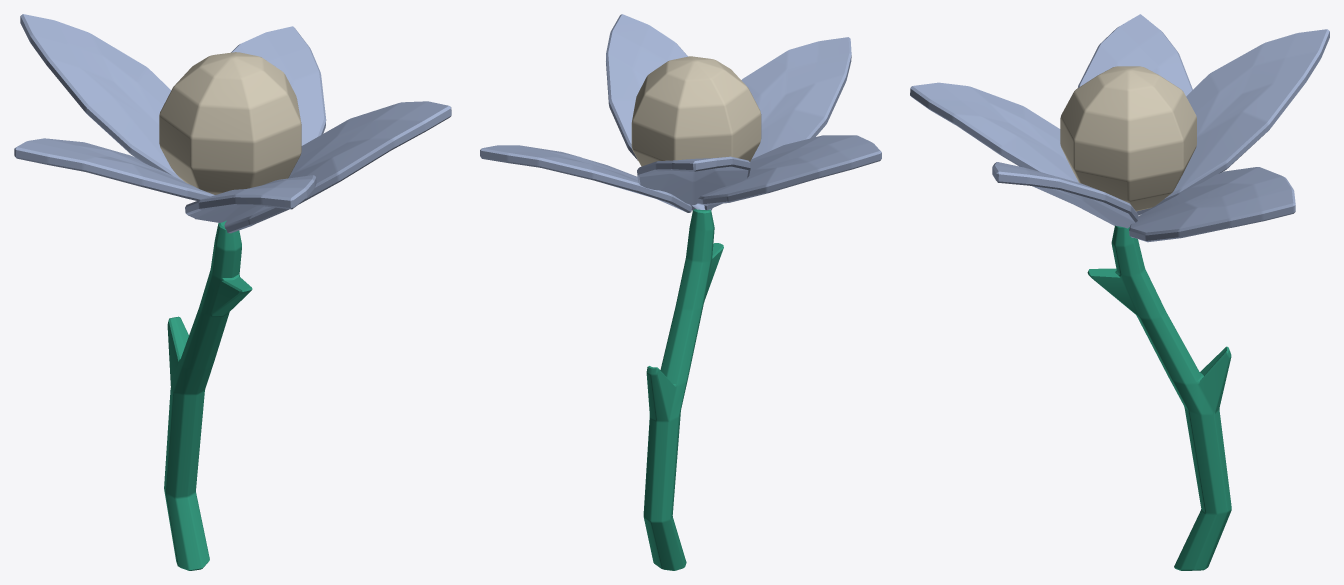
Rendered from Moon_Flower.fbx.
The picture shows the model from 3 angles, left to right: view 1: azimuth 30°, elevation 25°; view 2: azimuth 150°, elevation 25°; view 3: azimuth 270°, elevation 25°; orthographic projection. The views are drawn at different scales.
Parts seen in each view (by area): view 1: pDisc6, pSphere5, pCylinder1; view 2: pDisc6, pSphere5, pCylinder1; view 3: pDisc6, pSphere5, pCylinder1.
Boxes of the visible parts, x1=… form: pDisc6: x1=14, y1=14, x2=451, y2=233; pSphere5: x1=159, y1=52, x2=301, y2=194; pCylinder1: x1=164, y1=220, x2=252, y2=570; pDisc6: x1=480, y1=14, x2=881, y2=212; pSphere5: x1=631, y1=56, x2=761, y2=166; pCylinder1: x1=643, y1=209, x2=723, y2=570; pDisc6: x1=910, y1=14, x2=1329, y2=242; pSphere5: x1=1060, y1=66, x2=1196, y2=211; pCylinder1: x1=1087, y1=225, x2=1231, y2=570.
Size of the model in its own units: 2.35 by 3.28 by 2.49.
